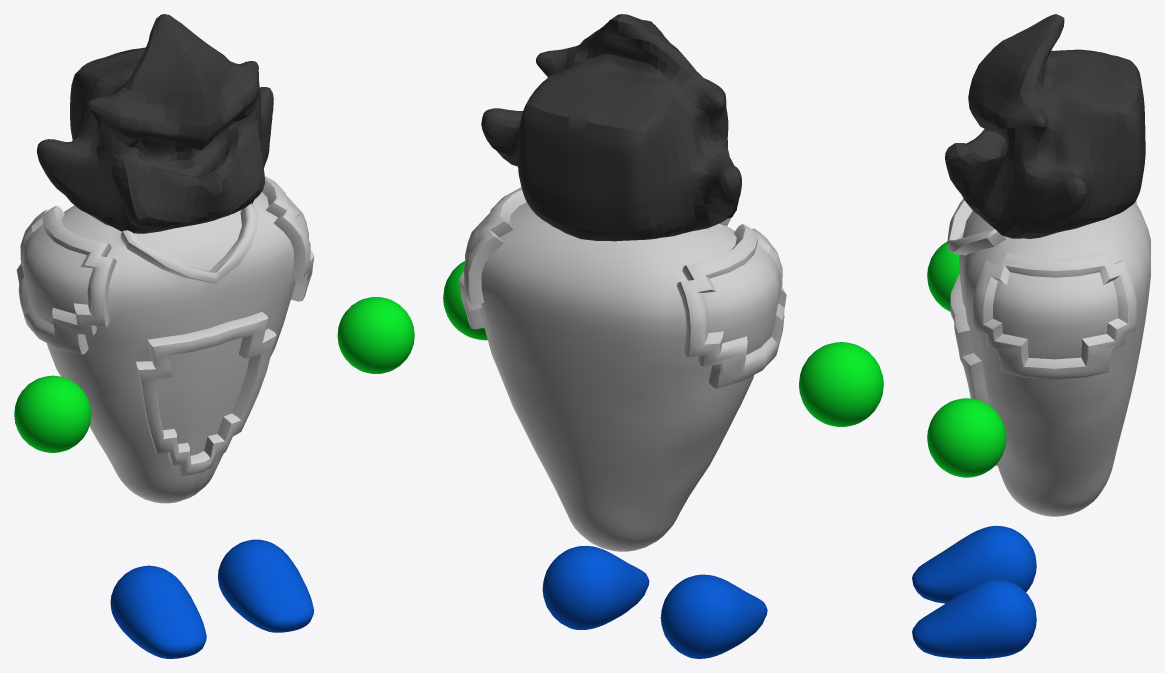
Rendered from Caballero prota.fbx.
The picture shows the model from 3 angles, left to right: view 1: azimuth 30°, elevation 25°; view 2: azimuth 150°, elevation 25°; view 3: azimuth 270°, elevation 25°; orthographic projection. The views are drawn at different scales.
Parts seen in each view (by area): view 1: Cuerpo, Casco_LP, Pie_izquierdo, Pie_derecho, Mano_derecha, Mano_izquierda; view 2: Cuerpo, Casco_LP, Pie_derecho, Pie_izquierdo, Mano_derecha, Mano_izquierda; view 3: Cuerpo, Casco_LP, Pie_izquierdo, Pie_derecho, Mano_izquierda, Mano_derecha.
Boxes of the visible parts, bbox=[...] form: Cuerpo: bbox=[16, 176, 314, 503]; Casco_LP: bbox=[37, 14, 273, 233]; Pie_izquierdo: bbox=[218, 539, 313, 632]; Pie_derecho: bbox=[110, 565, 206, 658]; Mano_derecha: bbox=[14, 375, 91, 452]; Mano_izquierda: bbox=[337, 297, 414, 373]; Cuerpo: bbox=[459, 187, 786, 551]; Casco_LP: bbox=[481, 14, 741, 241]; Pie_derecho: bbox=[660, 574, 767, 658]; Pie_izquierdo: bbox=[542, 546, 649, 629]; Mano_derecha: bbox=[799, 342, 883, 426]; Mano_izquierda: bbox=[443, 261, 487, 340]; Cuerpo: bbox=[947, 198, 1150, 516]; Casco_LP: bbox=[945, 14, 1145, 238]; Pie_izquierdo: bbox=[912, 579, 1036, 658]; Pie_derecho: bbox=[912, 525, 1036, 603]; Mano_izquierda: bbox=[927, 398, 1006, 477]; Mano_derecha: bbox=[927, 242, 959, 311].
Size of the model in its own units: 22 by 31.94 by 11.36.
